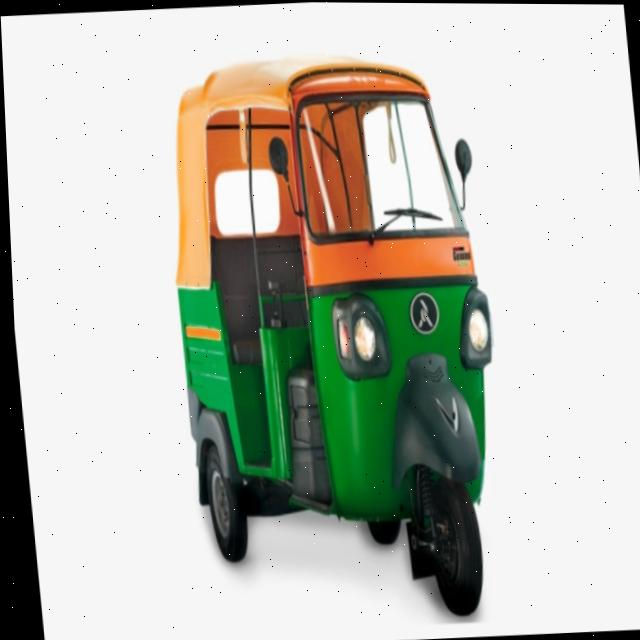cng: (144, 31, 530, 637)
